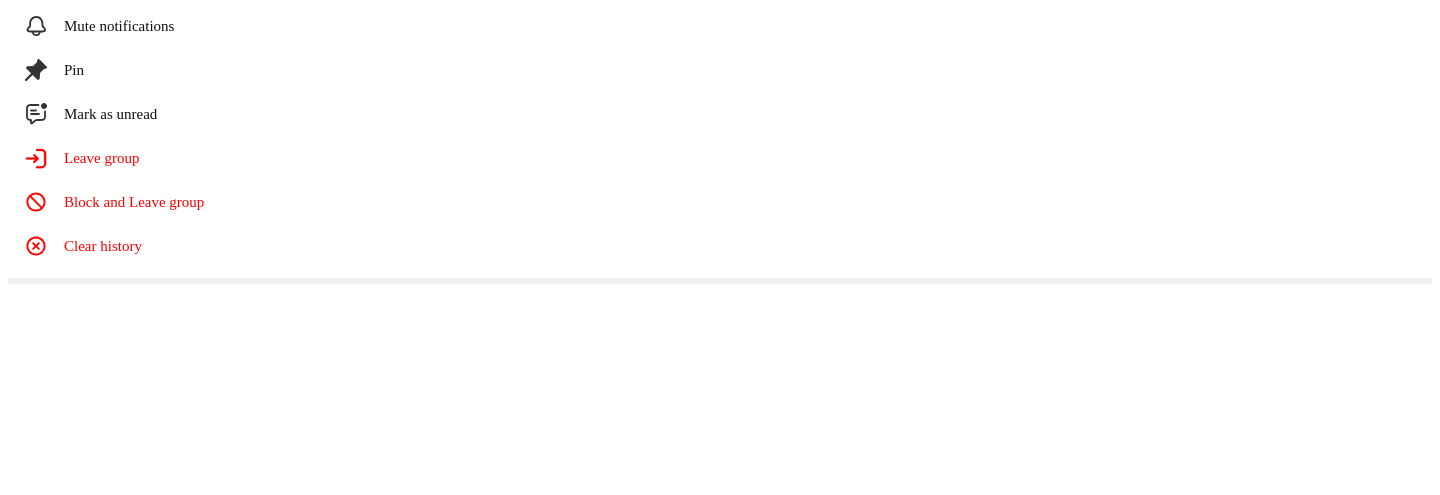
Test: Actions › Action dispatches › clicking Clear history opens confirm popup
This screenshot has width=1440, height=495.
Click the list item "Clear history".
click(83, 246)  # box [24,234,142,258]
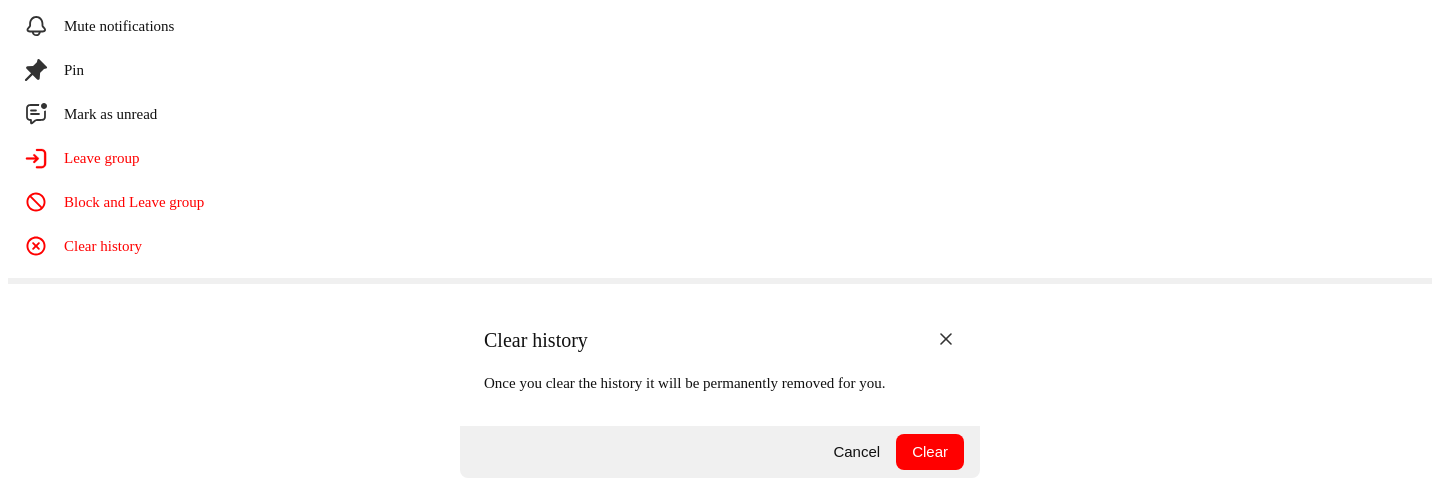
Expected: the button "Clear" is shown, [896,434,964,470]
